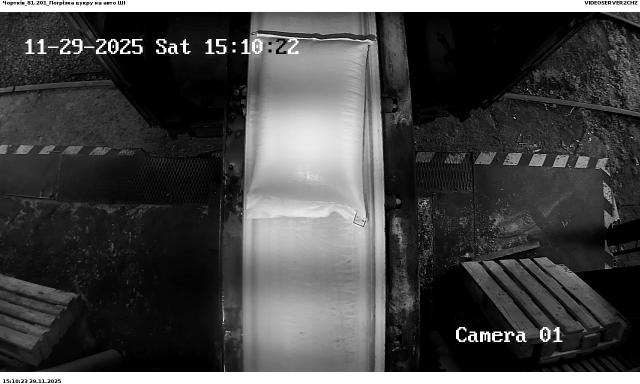bag: (247, 33, 375, 226)
